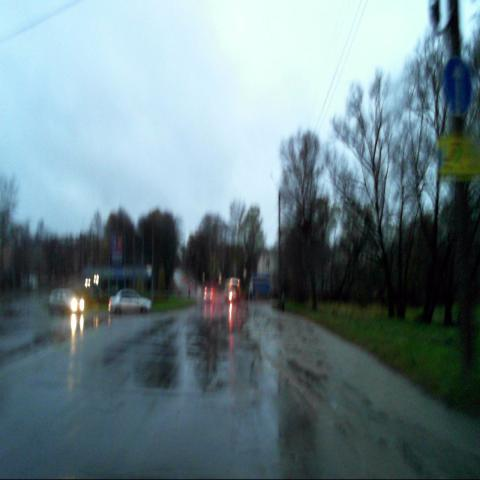4_1_1: (442, 57, 471, 117)
